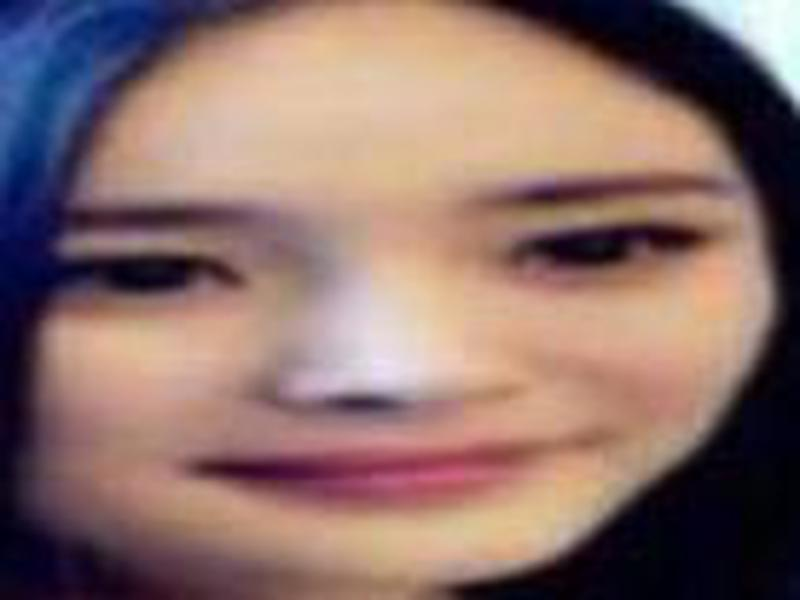without_mask: (19, 57, 780, 584)
